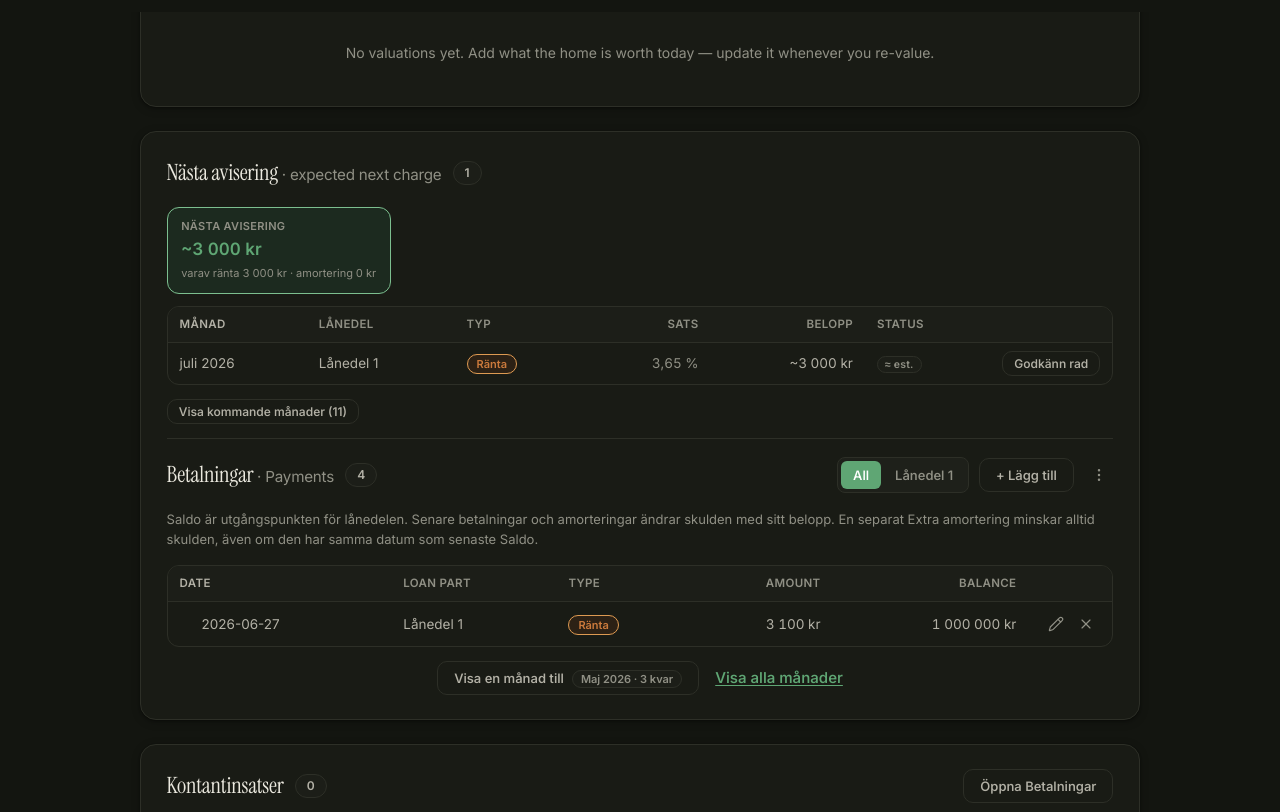
Scenario: Bolånekoll forecast — confirm-to-log (plan 23 phase C) › expands a read-only preview of the coming months via Visa kommande månader
(page scrolled)
Expected: the button "Godkänn rad" is shown, [1002,351,1100,376]
Click the button "Visa kommande månader (11)": (263, 412) [167,399,359,424]
(page scrolled)
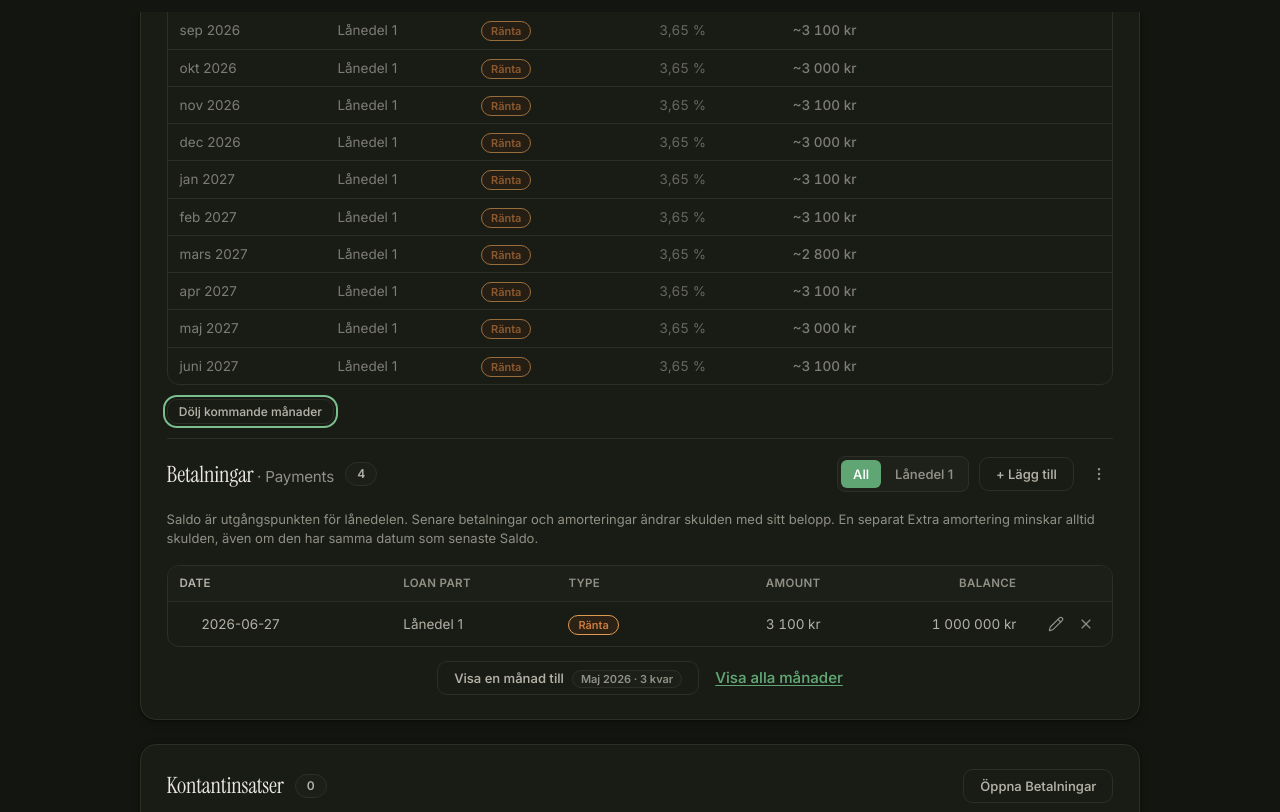
Now the button "Godkänn rad" is gone
Click the button "Dölj kommande månader": (250, 412) [167,399,334,424]
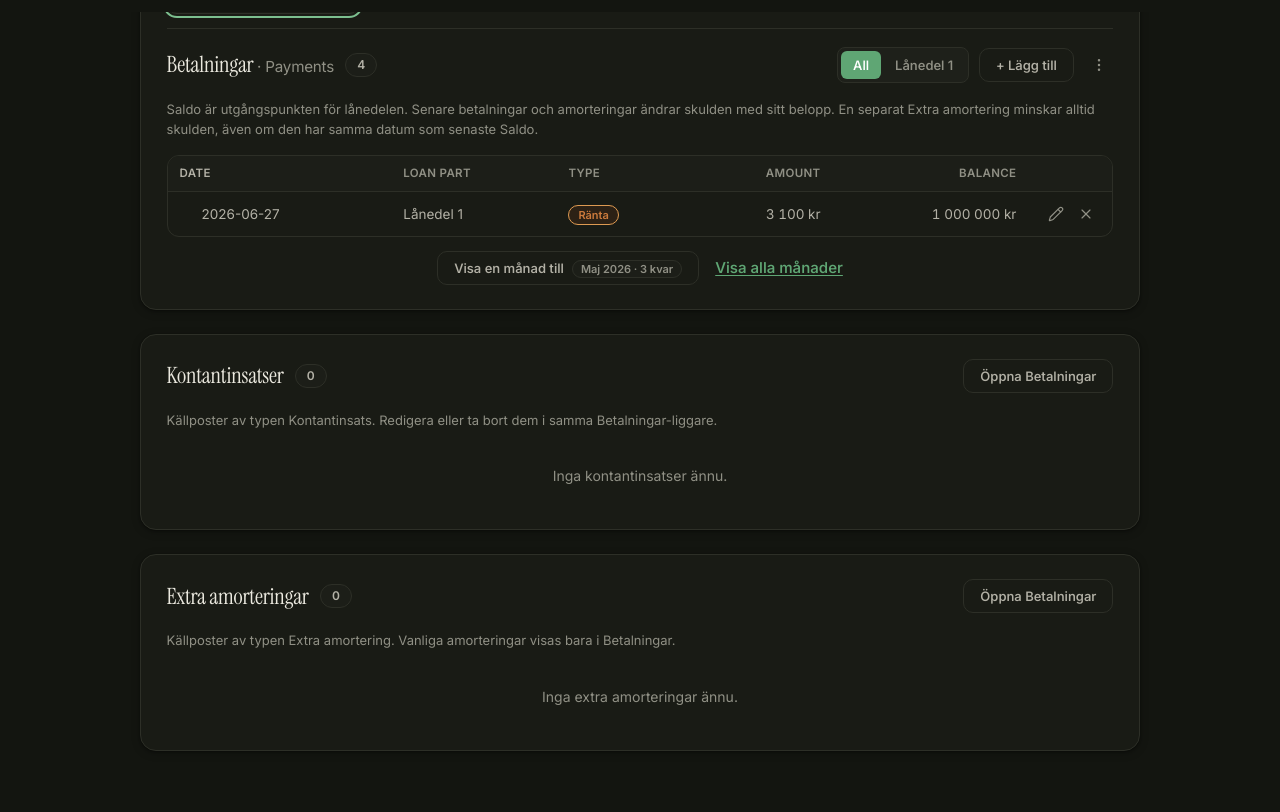
Now no rows with class "is-future" are shown
